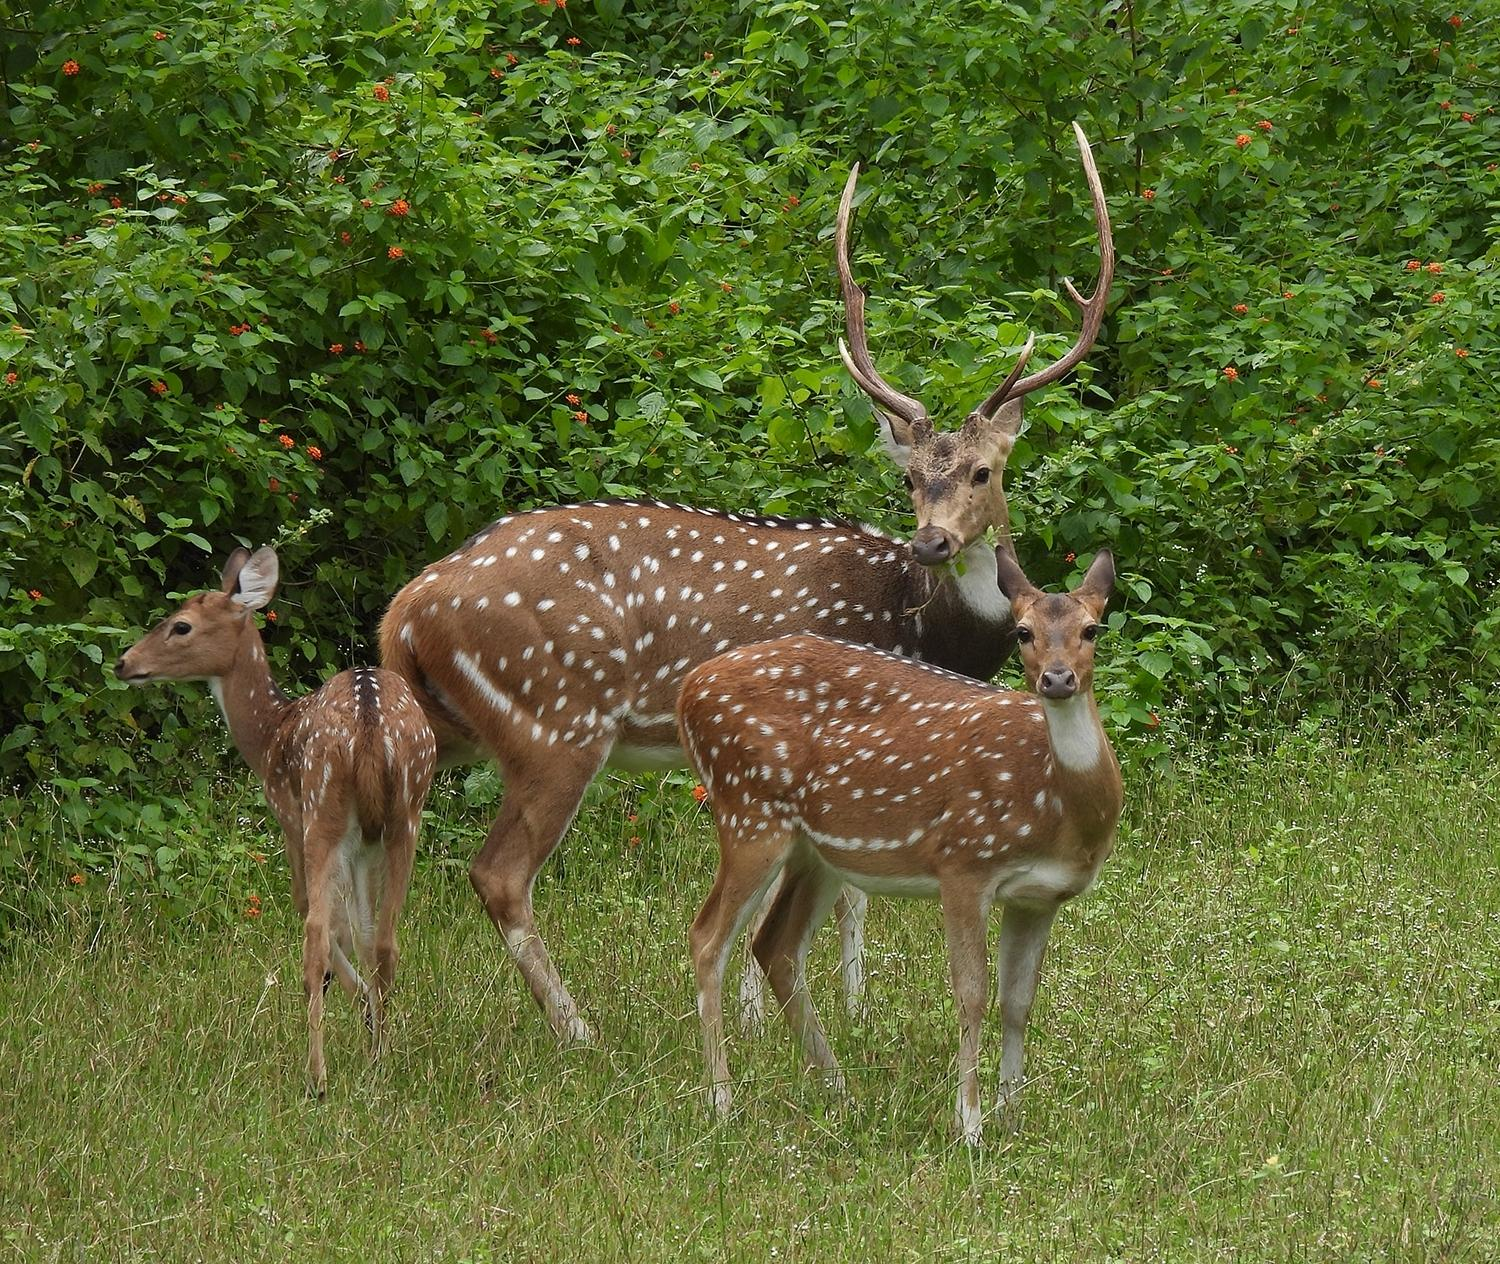Deer: (381, 120, 1112, 1040), (676, 550, 1121, 1142), (115, 545, 438, 1092)
